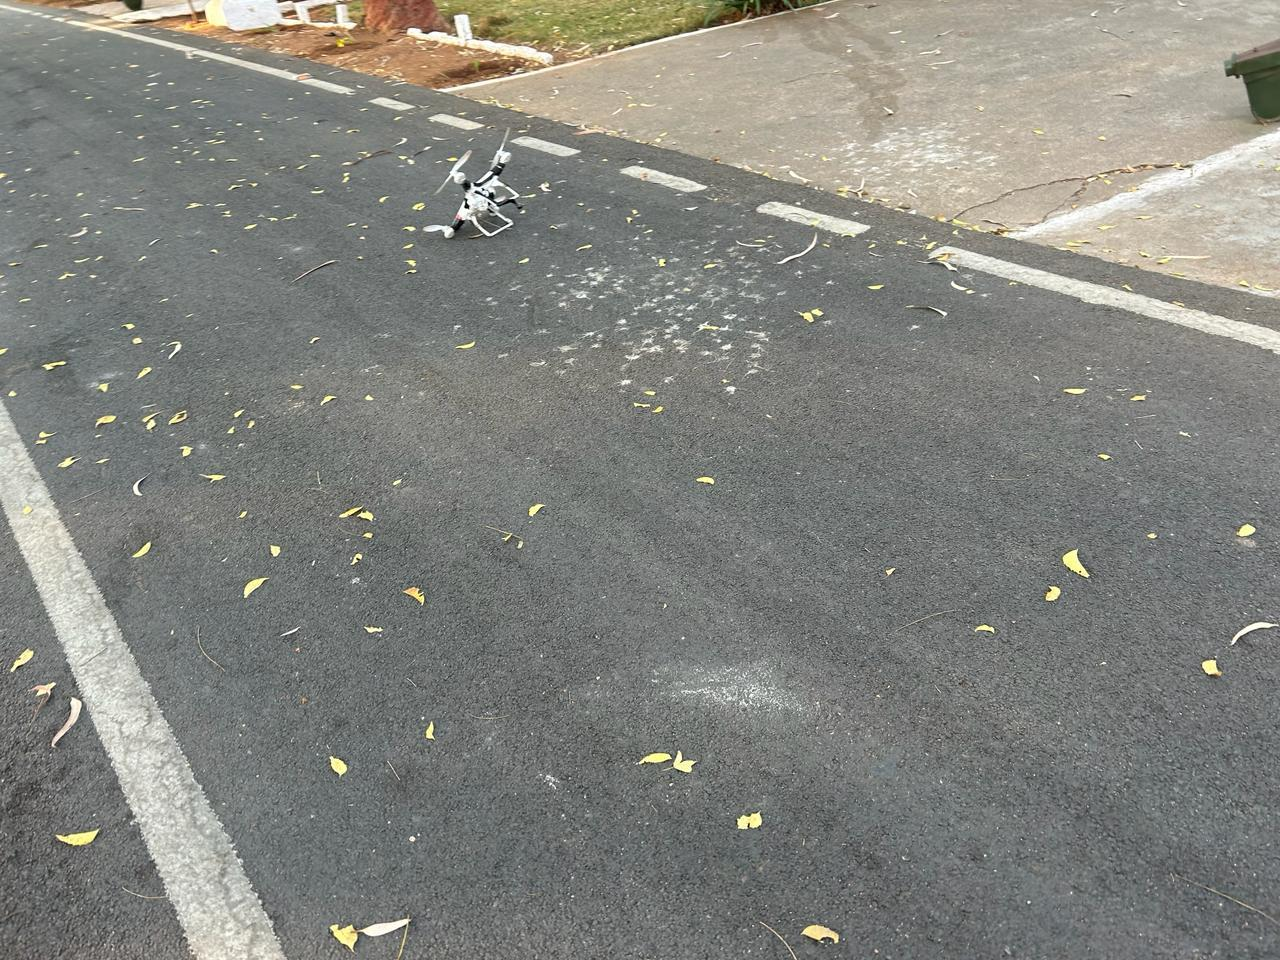drone: (394, 87, 582, 304)
